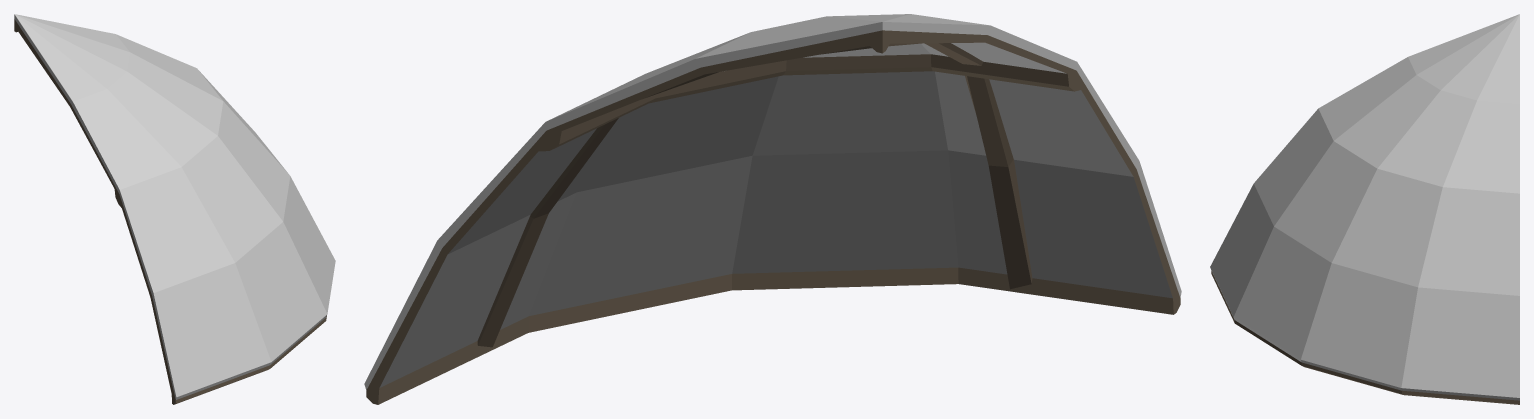
File: SM_Bld_Roof_Dome_L_Corner_01.fbx
3 views of the same model, side by side, from view 1: azimuth 30°, elevation 25°; view 2: azimuth 150°, elevation 25°; view 3: azimuth 270°, elevation 25° (orthographic). The views are drawn at different scales.
Parts seen in each view (by area): view 1: SM_Bld_Roof_Dome_L_Corner_01; view 2: SM_Bld_Roof_Dome_L_Corner_01; view 3: SM_Bld_Roof_Dome_L_Corner_01.
Boxes of the visible parts, bbox=[...] form: SM_Bld_Roof_Dome_L_Corner_01: bbox=[14, 14, 335, 404]; SM_Bld_Roof_Dome_L_Corner_01: bbox=[364, 14, 1181, 404]; SM_Bld_Roof_Dome_L_Corner_01: bbox=[1210, 14, 1519, 404].
Size of the model in its own units: 502 by 469 by 502.
